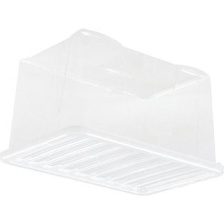plastic_box: (0, 21, 224, 203)
